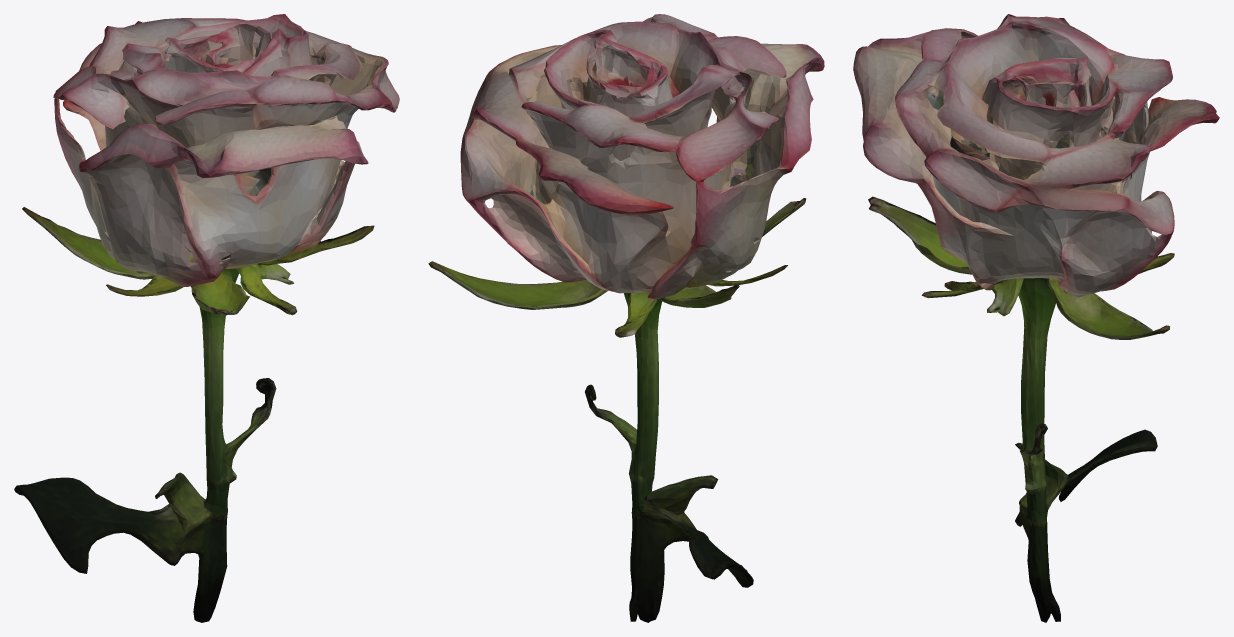
3 views of the same model, side by side, from view 1: azimuth 30°, elevation 25°; view 2: azimuth 150°, elevation 25°; view 3: azimuth 270°, elevation 25° (orthographic). The views are drawn at different scales.
Visible parts, largest first — view 1: world; view 2: world; view 3: world.
Part boxes in pixels (box(x1,y1,x2,y2)): world: box(14, 14, 399, 622); world: box(428, 14, 824, 622); world: box(853, 14, 1219, 622).
Bounding box in the file's own units: 0.5569 × 0.9849 × 0.5694.
1 material, 1 textured.
